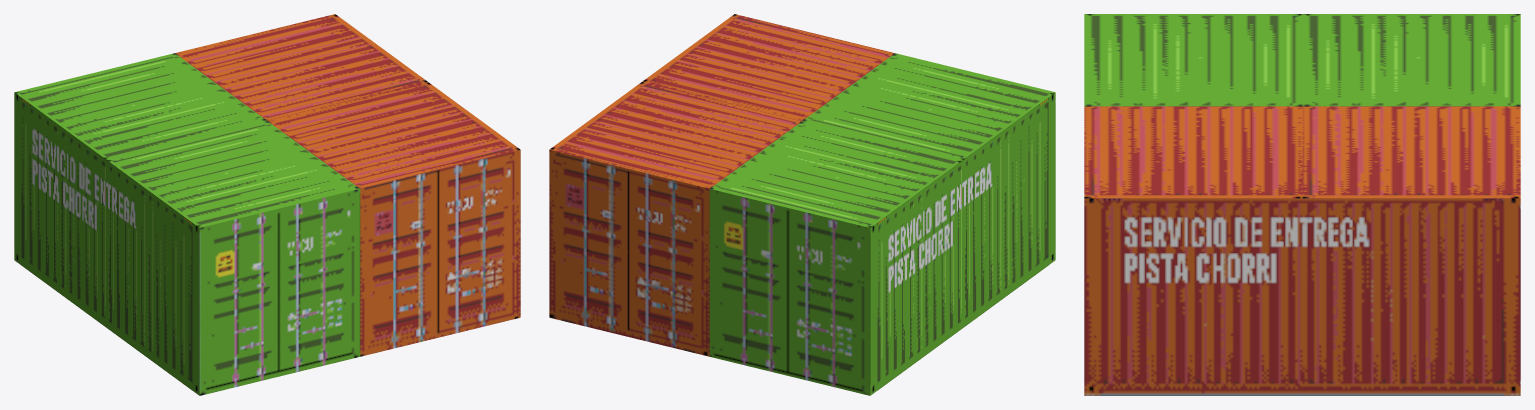
The model's file is Container-4x2x4.fbx.
The picture shows the model from 3 angles, left to right: view 1: azimuth 30°, elevation 25°; view 2: azimuth 150°, elevation 25°; view 3: azimuth 270°, elevation 25°; orthographic projection. The views are drawn at different scales.
Parts seen in each view (by area): view 1: Container-4x2x4; view 2: Container-4x2x4; view 3: Container-4x2x4.
Part boxes in pixels (x1,y1,x2,y2): Container-4x2x4: [14, 14, 520, 395]; Container-4x2x4: [549, 14, 1055, 395]; Container-4x2x4: [1084, 14, 1520, 395].
Size of the model in its own units: 4 by 2 by 4.
